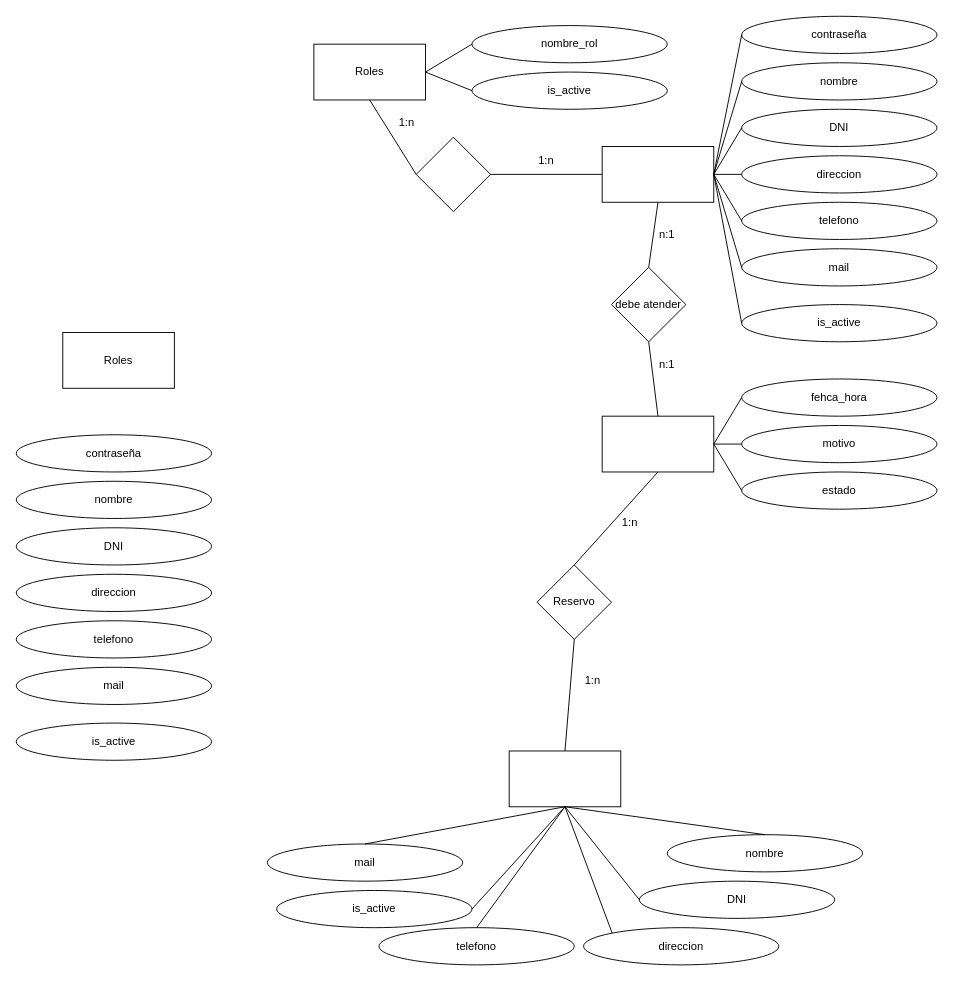
This 953x981 diagram has some shape labels left out. Each missing label, with the centre of its shape:
Clientes: pixel 564 778
Empleados: pixel 657 174
tiene: pixel 453 174
Turnos: pixel 657 443
